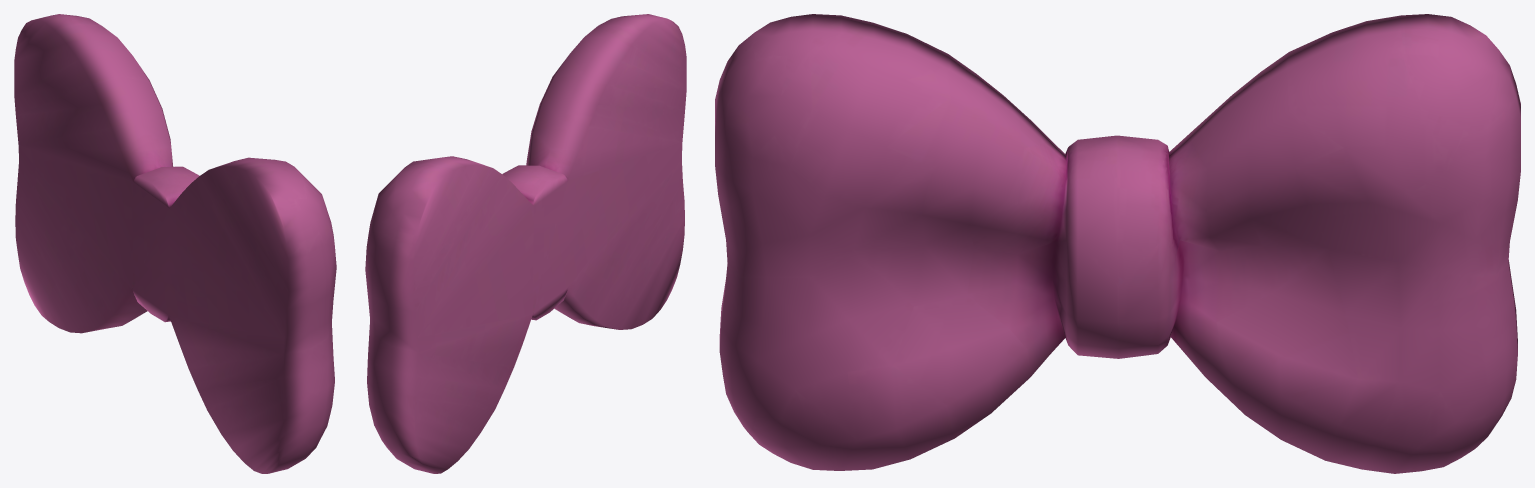
Rendered from acc-bow.glb.
The picture shows the model from 3 angles, left to right: view 1: azimuth 30°, elevation 25°; view 2: azimuth 150°, elevation 25°; view 3: azimuth 270°, elevation 25°; orthographic projection. The views are drawn at different scales.
Parts seen in each view (by area): view 1: tripo_node_084ab53c-14bb-49f7-bc03-e15a5e74d9a3; view 2: tripo_node_084ab53c-14bb-49f7-bc03-e15a5e74d9a3; view 3: tripo_node_084ab53c-14bb-49f7-bc03-e15a5e74d9a3.
Boxes of the visible parts, x1,y1,x2,y2 form: tripo_node_084ab53c-14bb-49f7-bc03-e15a5e74d9a3: (14,14,336,473); tripo_node_084ab53c-14bb-49f7-bc03-e15a5e74d9a3: (365,14,686,473); tripo_node_084ab53c-14bb-49f7-bc03-e15a5e74d9a3: (715,14,1520,473).
Bounding box in the file's own units: 0.162 × 0.5996 × 0.998.
Materials: 1 (1 with a texture image).
